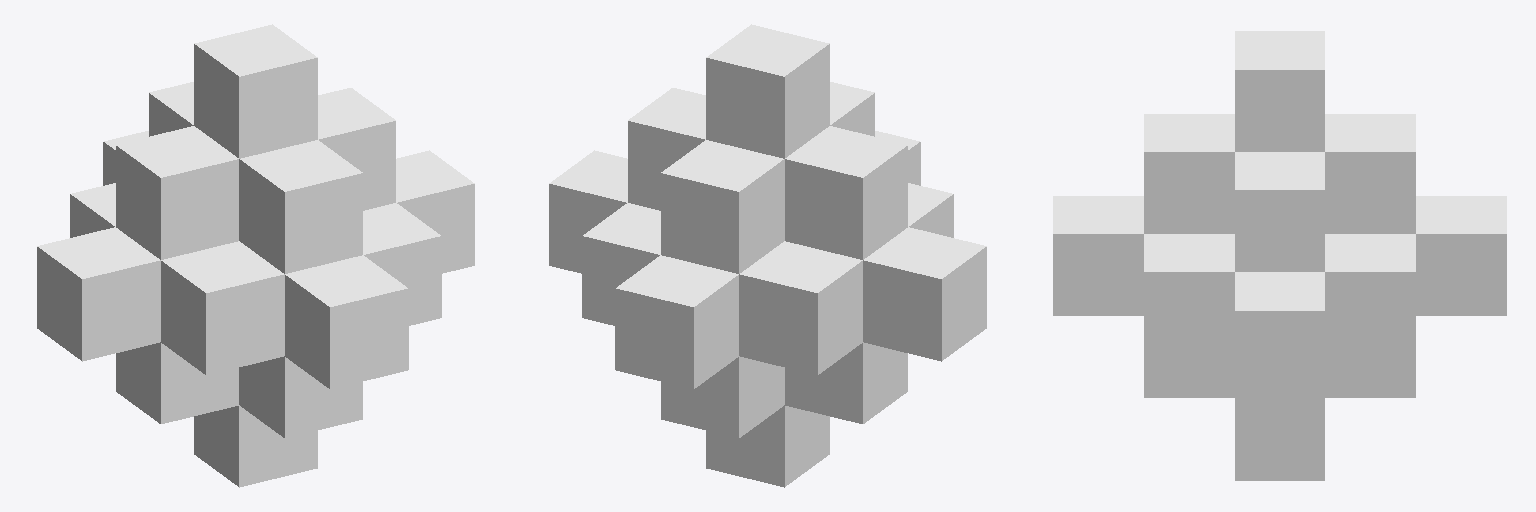
File: chair_wheel.obj
3 views of the same model, side by side, from view 1: azimuth 30°, elevation 25°; view 2: azimuth 150°, elevation 25°; view 3: azimuth 270°, elevation 25° (orthographic).
Visible parts, largest first — view 1: object 1; view 2: object 1; view 3: object 1.
Boxes of the visible parts, x1,y1,x2,y2 form: object 1: [37, 24, 474, 487]; object 1: [549, 24, 986, 487]; object 1: [1053, 31, 1506, 480].
Size of the model in its own units: 0.5 by 0.5 by 0.5.